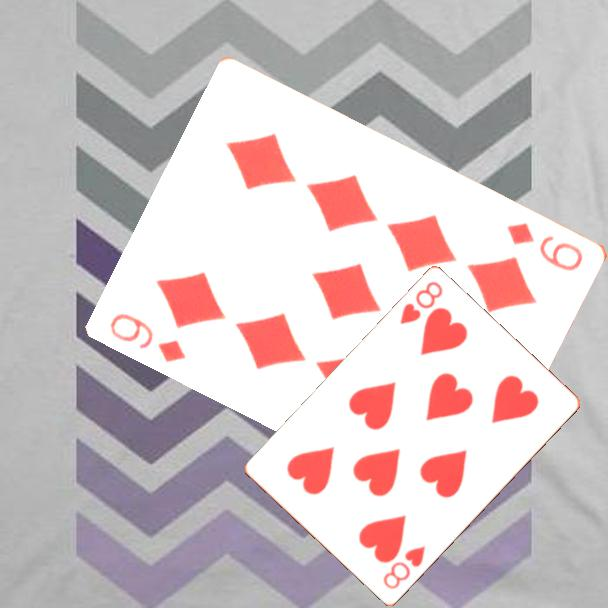d09: (107, 309, 190, 366), (503, 219, 587, 274)
h08: (379, 543, 429, 593), (396, 278, 446, 328)
